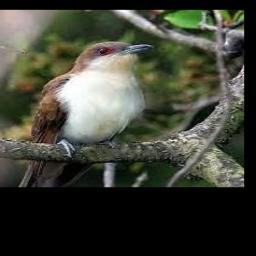Cuckoo: (18, 42, 154, 187)
